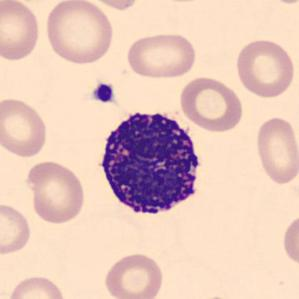Basophil: (92, 102, 208, 224)
Platelets: (90, 81, 115, 104), (194, 295, 235, 299)
RBC: (42, 0, 116, 66), (24, 158, 87, 226), (232, 36, 296, 100), (177, 74, 245, 133), (123, 30, 198, 81), (252, 114, 299, 187), (0, 96, 50, 159), (102, 250, 166, 299), (0, 0, 43, 63), (0, 201, 33, 257), (6, 273, 68, 299), (280, 212, 299, 268), (84, 0, 146, 12), (261, 0, 299, 5)
